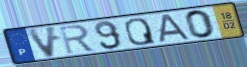0: (184, 9, 218, 40)
9: (94, 20, 124, 51)
A: (156, 13, 193, 44)
Q: (123, 17, 158, 47)
R: (58, 24, 97, 56)
V: (25, 25, 59, 60)
